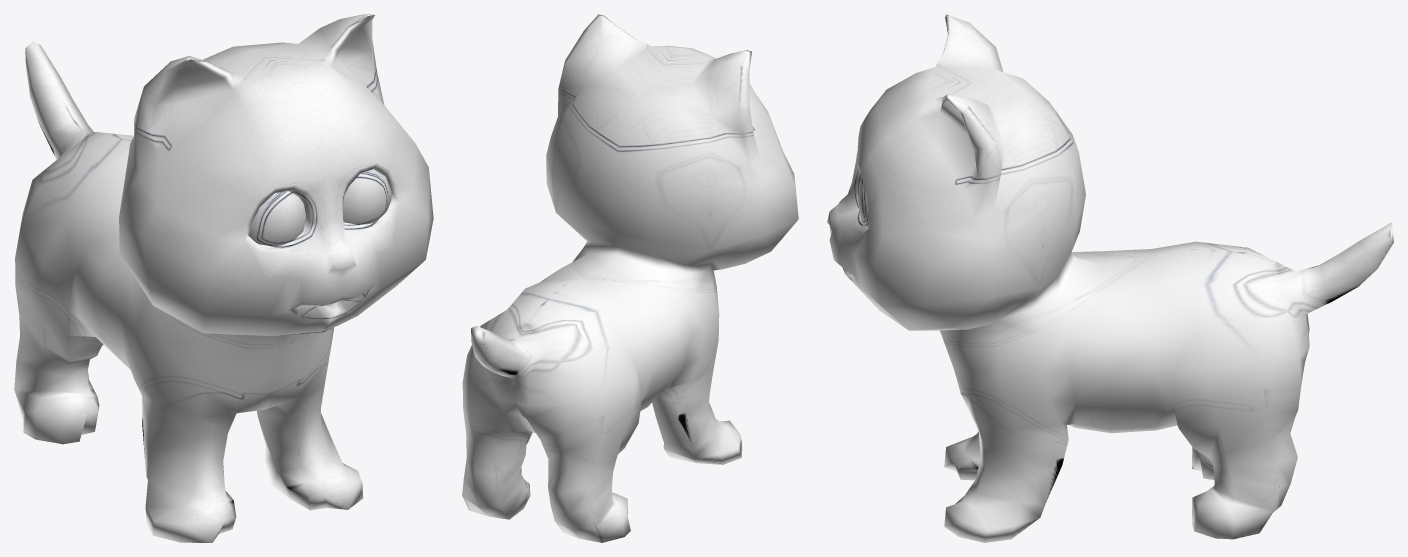
Rendered from ota_textured3.fbx.
3 views of the same model, side by side, from view 1: azimuth 30°, elevation 25°; view 2: azimuth 150°, elevation 25°; view 3: azimuth 270°, elevation 25° (orthographic). The views are drawn at different scales.
Visible parts, largest first — view 1: polySurface4; view 2: polySurface4; view 3: polySurface4.
Part boxes in pixels (<box>): polySurface4: <box>14,14,433,542</box>; polySurface4: <box>462,14,798,542</box>; polySurface4: <box>827,14,1393,542</box>.
Size of the model in its own units: 1.94 by 3.17 by 3.69.
Materials: 1 (1 with a texture image).
